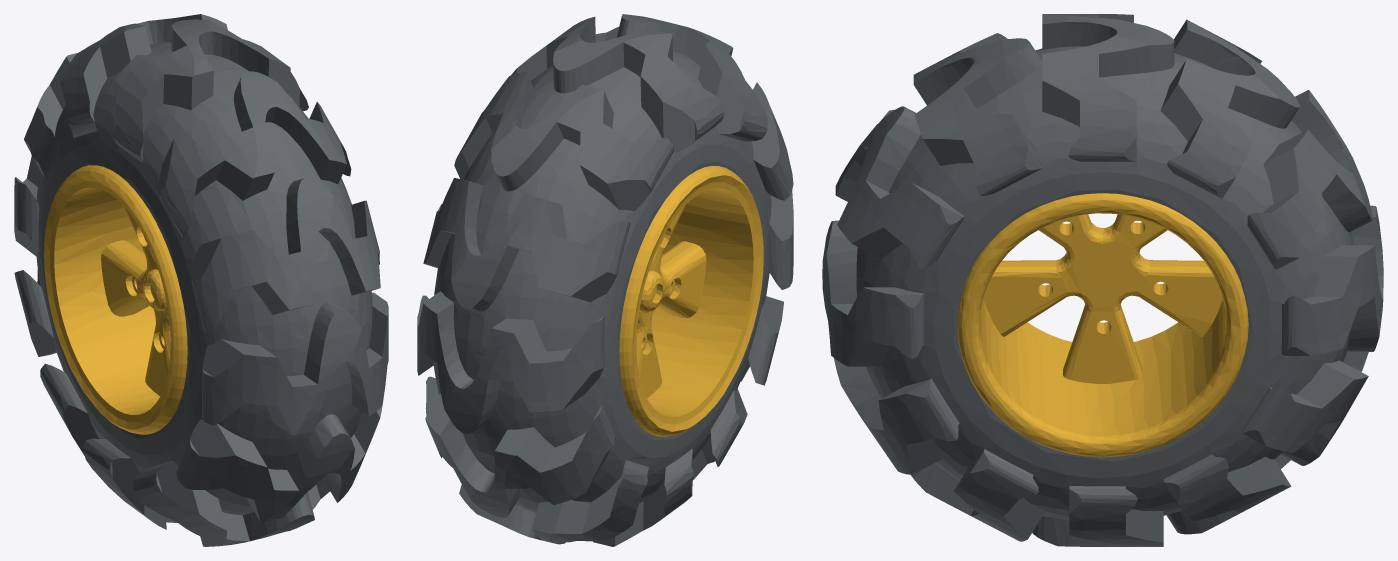
The model's file is wheel.obj.
The picture shows the model from 3 angles, left to right: view 1: azimuth 30°, elevation 25°; view 2: azimuth 150°, elevation 25°; view 3: azimuth 270°, elevation 25°; orthographic projection. The views are drawn at different scales.
Visible parts, largest first — view 1: obj_8; view 2: obj_8; view 3: obj_8.
Boxes of the visible parts, x1,y1,x2,y2 form: obj_8: (14,14,388,546); obj_8: (417,14,793,546); obj_8: (822,14,1383,546).
Bounding box in the file's own units: 0.24 × 0.5934 × 0.5934.
